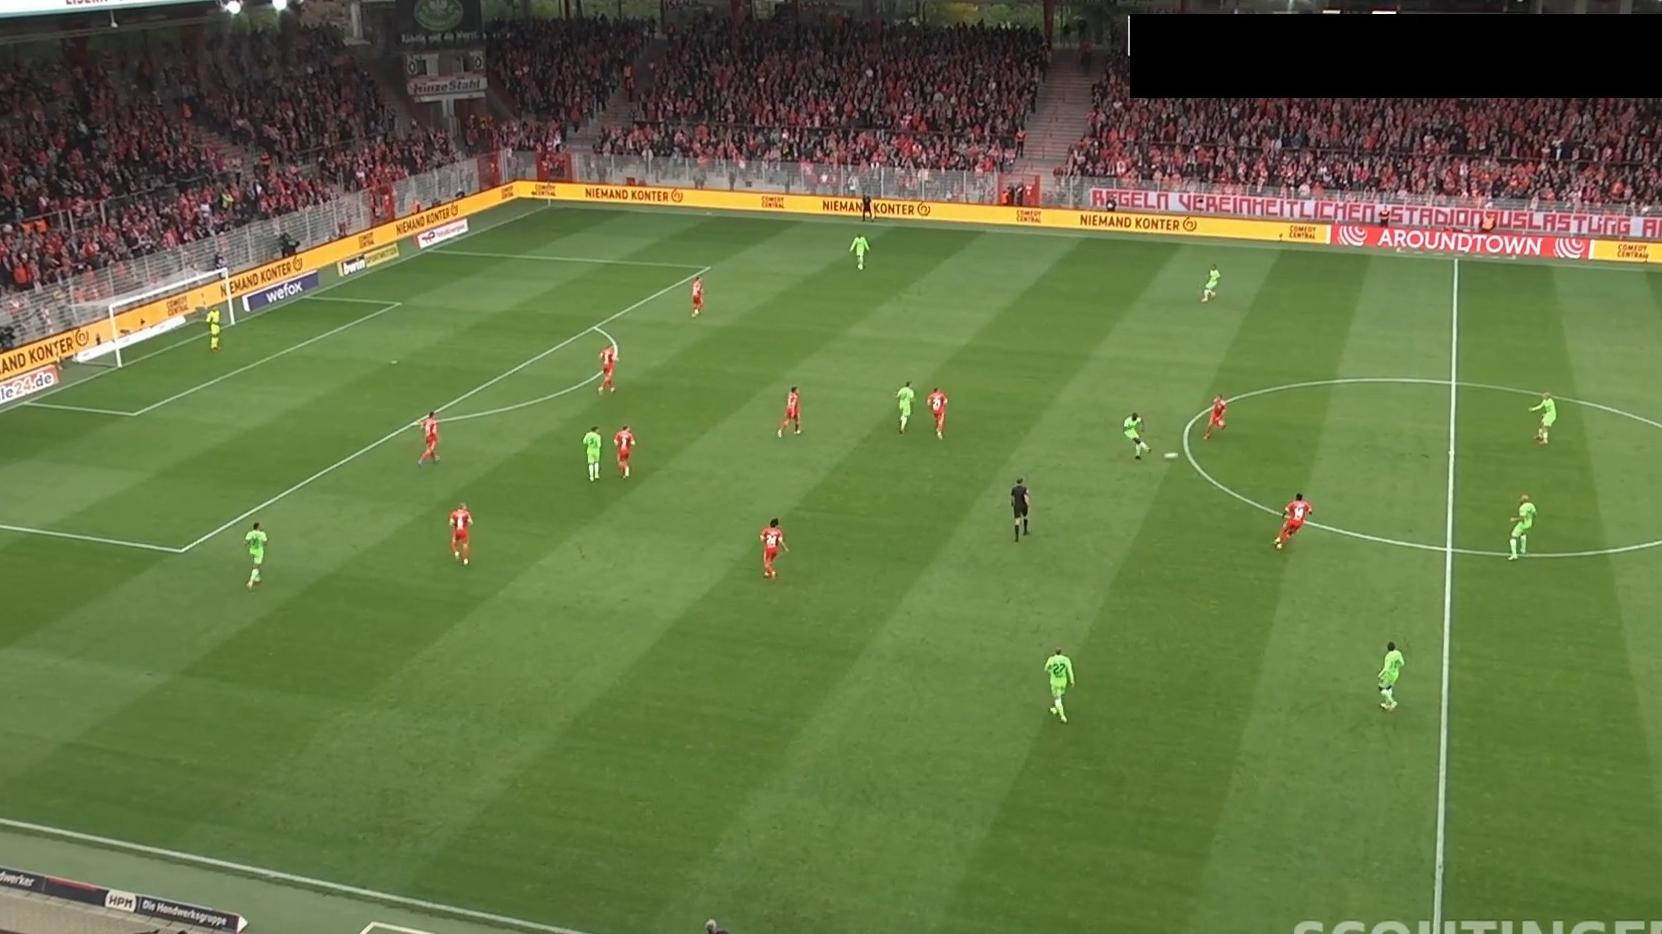ball: (1162, 450, 1179, 461)
